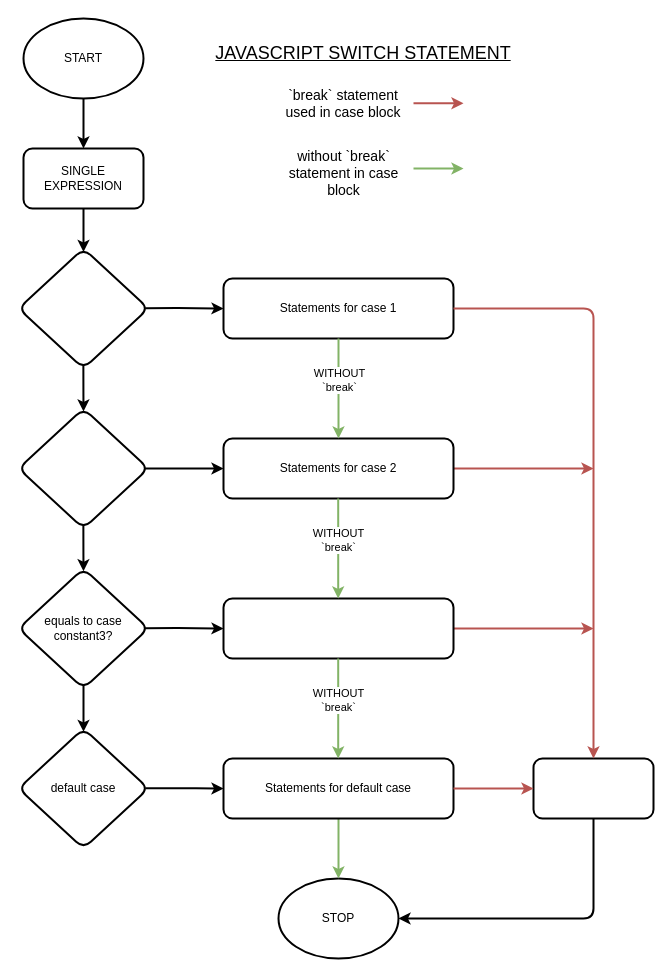
Some shapes in this 671 by 976 pixel diagram are drawn without their labels. Each missing label, with the centre of its shape:
BREAK: the point at 593,788
equals to case constant1?: the point at 83,308
equals to case constant2?: the point at 83,468
Statements for case 3: the point at 338,628
